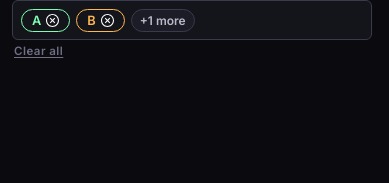
Scenario: TagsInput › collapse mode › reveals all selected choices in the dropdown
What coordinates should you click on to do the following:
click the button "+1 more"
I would click on:
 (163, 20)
Its box is [131, 8, 195, 32].
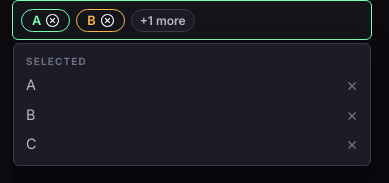
Check: the list item "Selected" is shown, box [26, 55, 87, 67]
Check: the text "c" is shown, box [26, 136, 36, 152]
